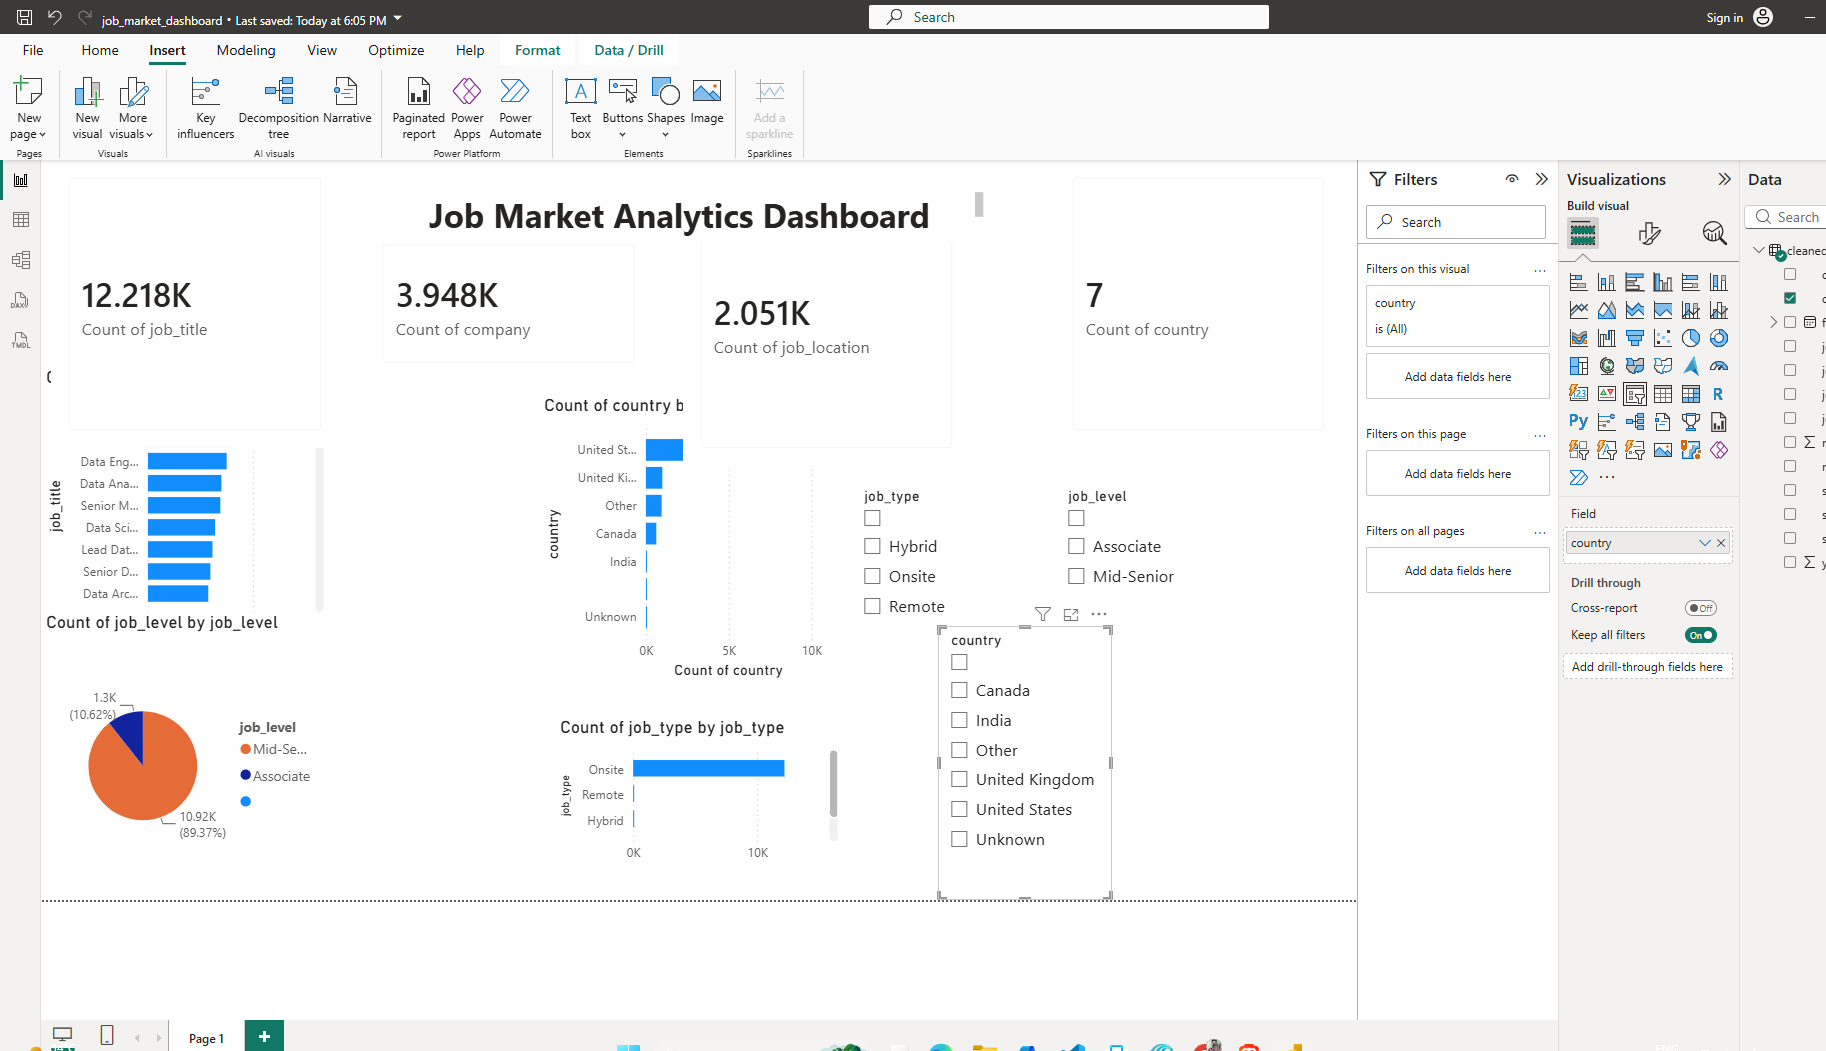

The dashboard page shown, as its layout file describes it:
{"tool":"powerbi","page":{"name":"Page 1","canvas":[1280,720],"ordinal":0},"visuals":[{"type":"clusteredBarChart","fields":{"Category":["cleaned_job_postings.job_title"],"Y":["CountNonNull(cleaned_job_postings.job_title)"]},"box":[0,201.3,280.1,280.1],"z":0},{"type":"pieChart","fields":{"Category":["cleaned_job_postings.job_level"],"Y":["CountNonNull(cleaned_job_postings.job_level)"]},"box":[0,439.6,280.1,280.1],"z":1},{"type":"clusteredBarChart","fields":{"Category":["cleaned_job_postings.job_type"],"Y":["CountNonNull(cleaned_job_postings.job_type)"]},"box":[499.9,541.8,280.1,149.8],"z":2},{"type":"clusteredBarChart","fields":{"Category":["cleaned_job_postings.country"],"Y":["CountNonNull(cleaned_job_postings.country)"]},"box":[484.4,228.6,280.1,280.1],"z":3},{"type":"cardVisual","fields":{"Data":["CountNonNull(cleaned_job_postings.job_title)"]},"box":[9.7,0,280.1,280.1],"z":4},{"type":"cardVisual","fields":{"Data":["Count(cleaned_job_postings.company)"]},"box":[315.1,65.2,280.1,149.8],"z":5},{"type":"cardVisual","fields":{"Data":["Count(cleaned_job_postings.job_location)"]},"box":[624.4,17.5,279.1,280.1],"z":6},{"type":"cardVisual","fields":{"Data":["Count(cleaned_job_postings.country)"]},"box":[986.3,0,279.1,280.1],"z":7},{"type":"textbox","box":[372.5,26.3,548.6,52.5],"z":8},{"type":"slicer","fields":{"Values":["cleaned_job_postings.job_type"]},"box":[787.8,313.2,169.2,266.5],"z":9},{"type":"slicer","fields":{"Values":["cleaned_job_postings.job_level"]},"box":[986,313,279,267],"z":10},{"type":"slicer","fields":{"Values":["cleaned_job_postings.country"]},"box":[872.5,453.3,169.2,266.5],"z":11}]}

Visuals, with their boxes on the page's 1280x720 design canvas (x1, y1, x2, y2). These are canvas units, not pixel positions in the 1826x1051 screenshot, which may show the page scaled, cropped or inside an application window:
clusteredBarChart - cleaned_job_postings.job_title x CountNonNull(cleaned_job_postings.job_title): x1=0 y1=201 x2=280 y2=481
pieChart - cleaned_job_postings.job_level x CountNonNull(cleaned_job_postings.job_level): x1=0 y1=440 x2=280 y2=720
clusteredBarChart - cleaned_job_postings.job_type x CountNonNull(cleaned_job_postings.job_type): x1=500 y1=542 x2=780 y2=692
clusteredBarChart - cleaned_job_postings.country x CountNonNull(cleaned_job_postings.country): x1=484 y1=229 x2=764 y2=509
cardVisual - CountNonNull(cleaned_job_postings.job_title): x1=10 y1=0 x2=290 y2=280
cardVisual - Count(cleaned_job_postings.company): x1=315 y1=65 x2=595 y2=215
cardVisual - Count(cleaned_job_postings.job_location): x1=624 y1=18 x2=904 y2=298
cardVisual - Count(cleaned_job_postings.country): x1=986 y1=0 x2=1265 y2=280
textbox: x1=372 y1=26 x2=921 y2=79
slicer - cleaned_job_postings.job_type: x1=788 y1=313 x2=957 y2=580
slicer - cleaned_job_postings.job_level: x1=986 y1=313 x2=1265 y2=580
slicer - cleaned_job_postings.country: x1=872 y1=453 x2=1042 y2=720
